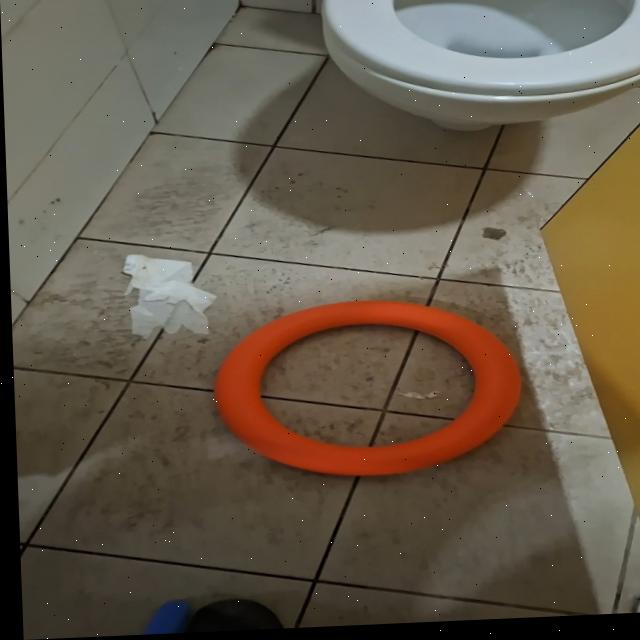note: (207, 296, 523, 486)
